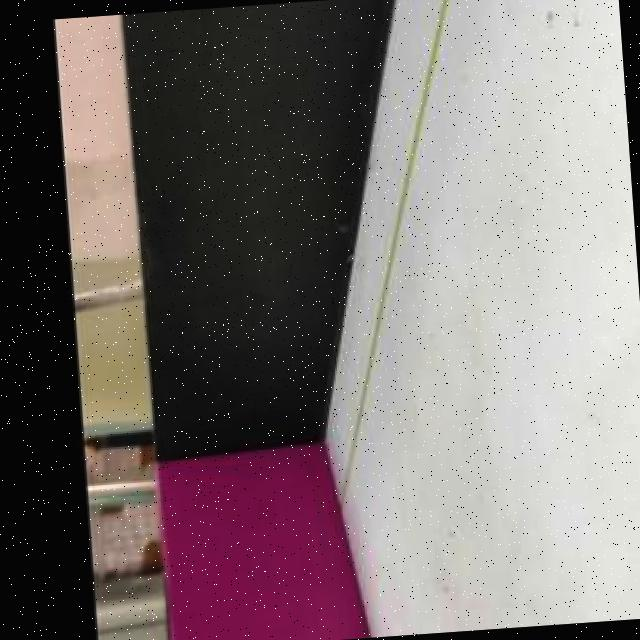xparking: (148, 449, 352, 640)
